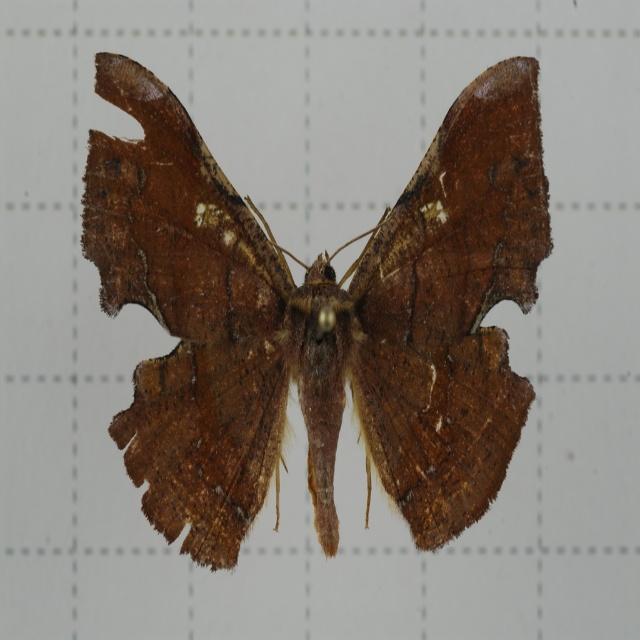Butterfly: (80, 52, 554, 569)
